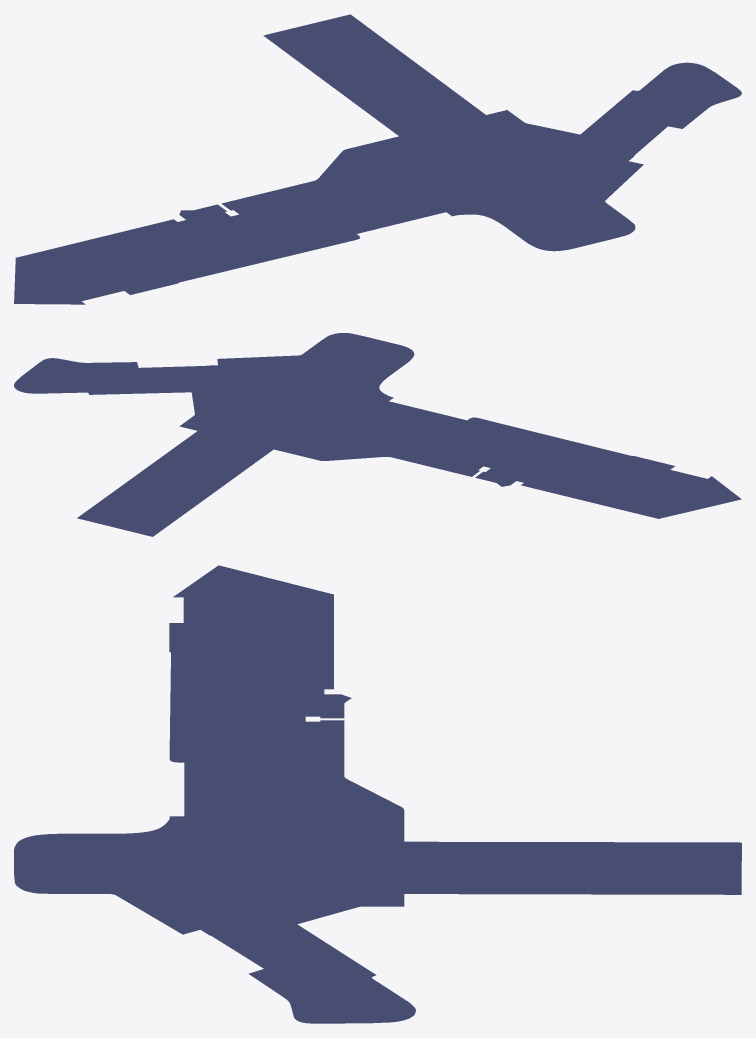
The model's file is harbourWaterTerrain.fbx.
The picture shows the model from 3 angles, top to bottom: view 1: azimuth 30°, elevation 25°; view 2: azimuth 150°, elevation 25°; view 3: azimuth 270°, elevation 25°; orthographic projection. The views are drawn at different scales.
Parts seen in each view (by area): view 1: water1; view 2: water1; view 3: water1.
Part boxes in pixels (box(x1,y1,x2,y2)): water1: box(14, 14, 741, 304); water1: box(14, 333, 741, 536); water1: box(14, 565, 741, 1023).
Size of the model in its own units: 26.58 by 0.000511 by 17.84.
